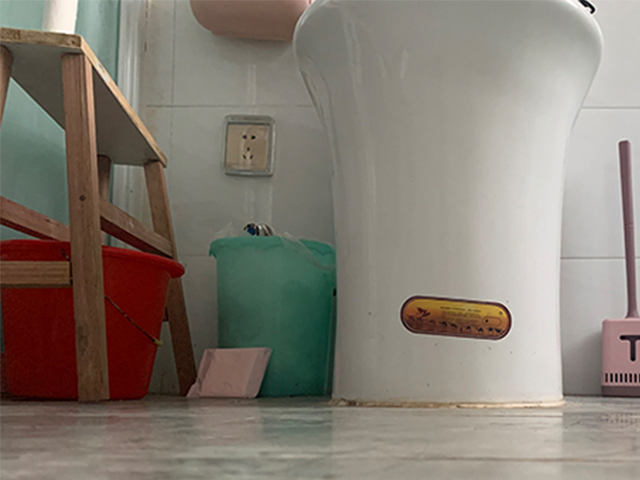closestool: (292, 1, 604, 406)
stool: (1, 25, 199, 406)
trashcan: (209, 235, 337, 399)
